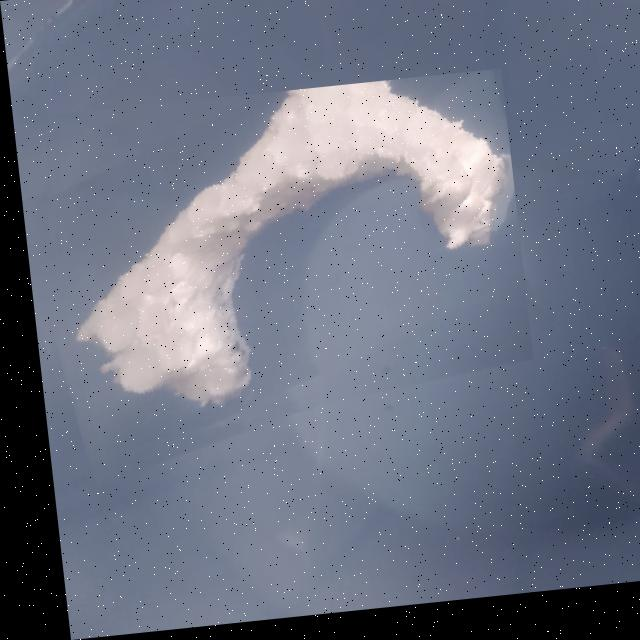thermocoal: (10, 78, 529, 463)
